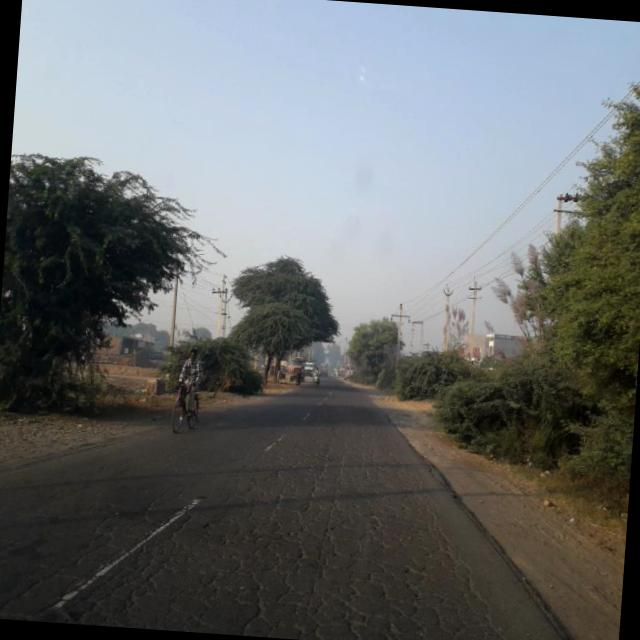crack: (0, 433, 521, 640)
